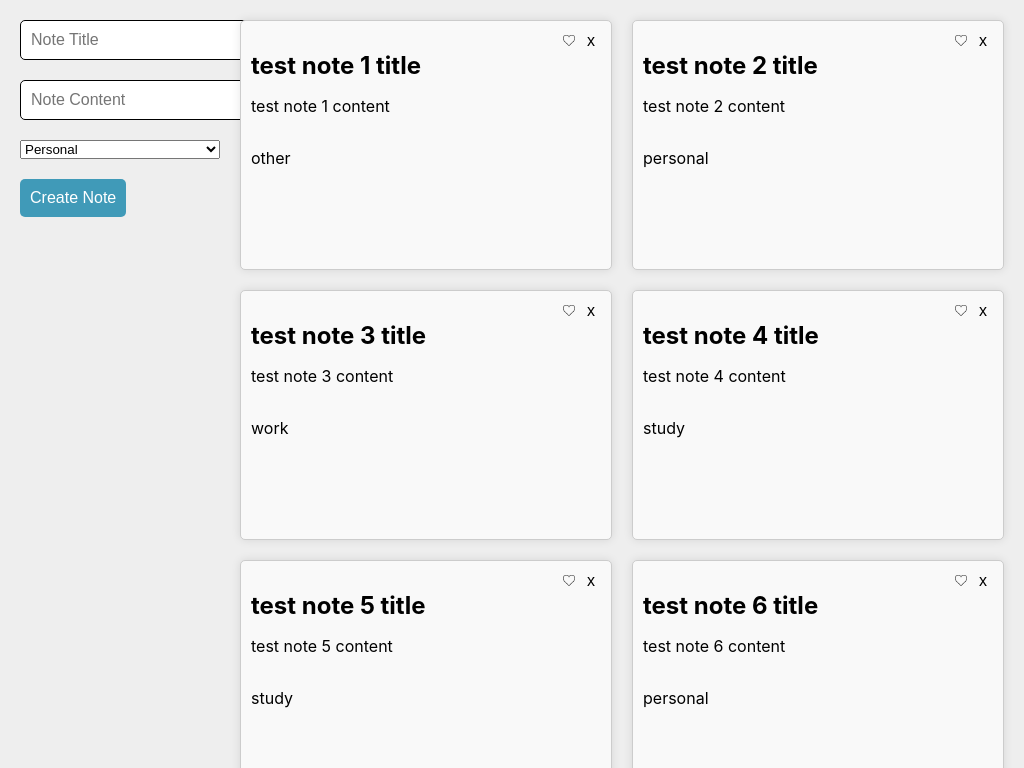
it: Delete StickyNote › removes a note when the delete button is clicked
This screenshot has width=1024, height=768.
expect the heading "test note 1 title" is shown: met, box [251, 51, 421, 80]
expect the text box "test note 1 content" is shown: met, box [251, 96, 390, 116]
Click the 1st button "x". click: x=591, y=41
box: [581, 31, 601, 51]
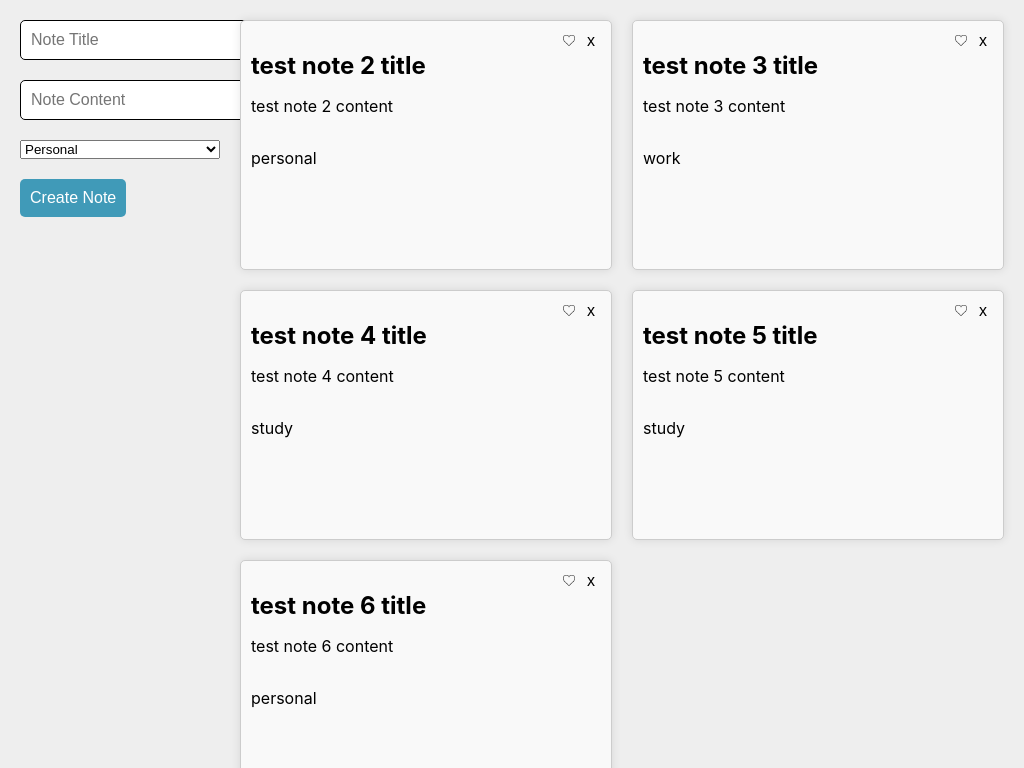
expect the heading "test note 2 title" is shown: met, box [251, 51, 426, 80]
expect the heading "test note 1 title" is gone: met
expect the text box "test note 1 content" is gone: met
Click the 1st button "x". click: x=591, y=41
box: [581, 31, 601, 51]
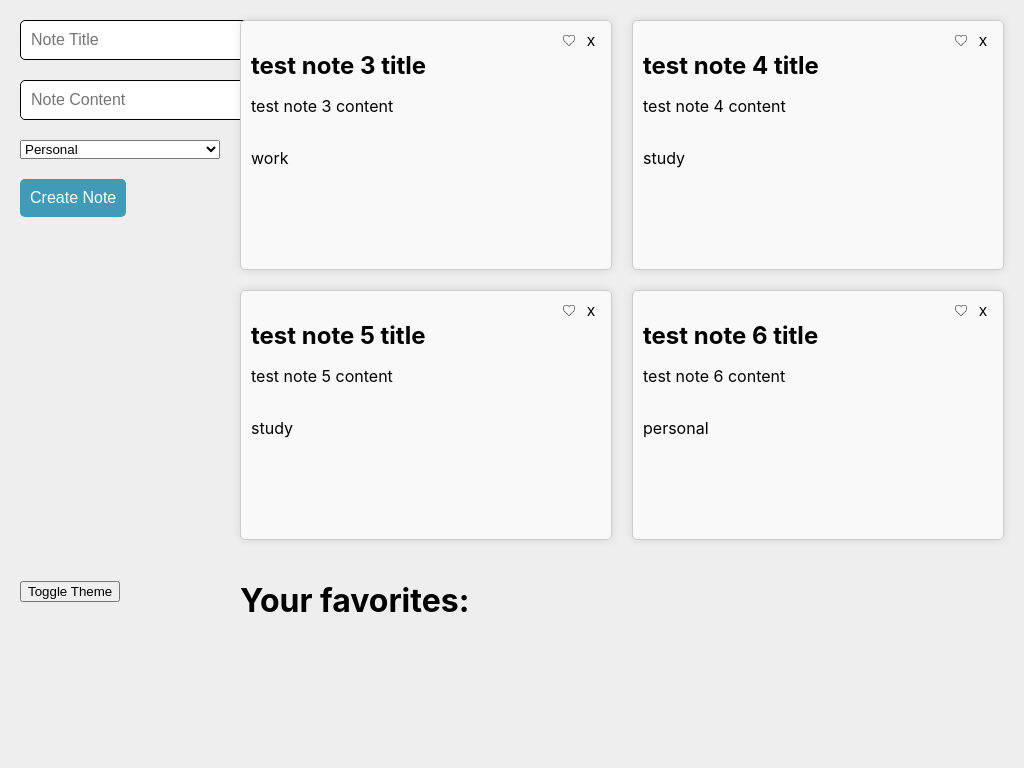
expect the heading "test note 3 title" is shown: met, box [251, 51, 426, 80]
expect the heading "test note 2 title" is gone: met
expect the text box "test note 2 content" is gone: met
Click the 1st button "x". click: x=591, y=41
box: [581, 31, 601, 51]
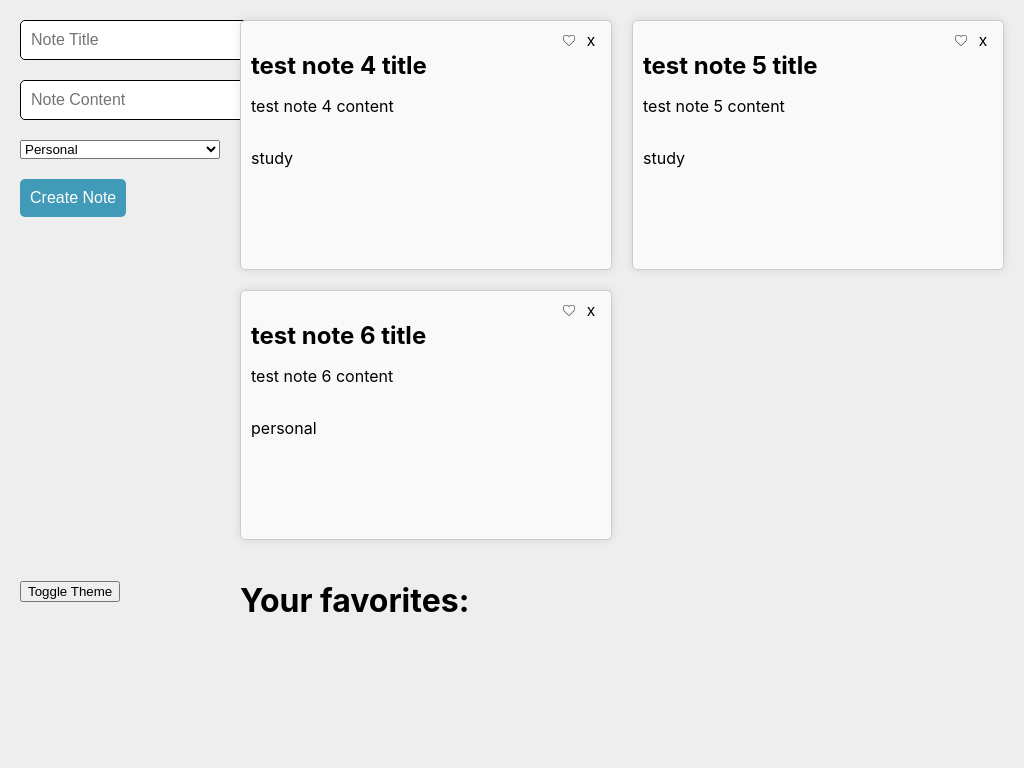
expect the heading "test note 4 title" is shown: met, box [251, 51, 427, 80]
expect the heading "test note 3 title" is gone: met
expect the text box "test note 3 content" is gone: met
Click the 1st button "x". click: x=591, y=41
box: [581, 31, 601, 51]
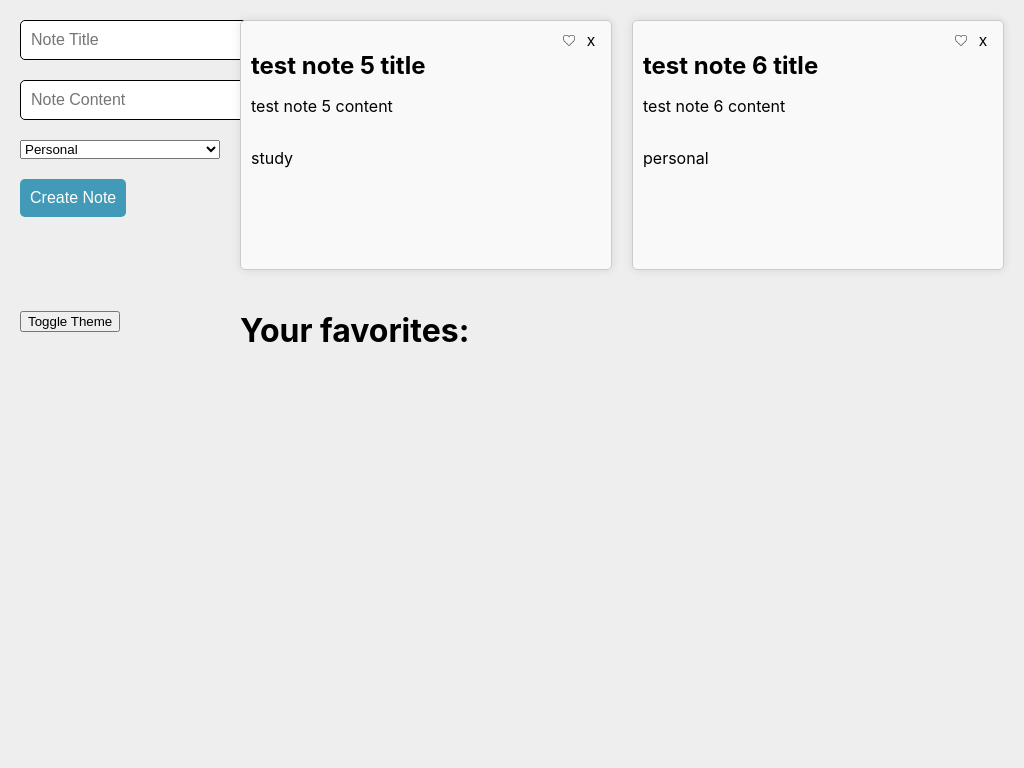
expect the heading "test note 5 title" is shown: met, box [251, 51, 426, 80]
expect the heading "test note 4 title" is gone: met
expect the text box "test note 4 content" is gone: met
Click the 1st button "x". click: x=591, y=41
box: [581, 31, 601, 51]
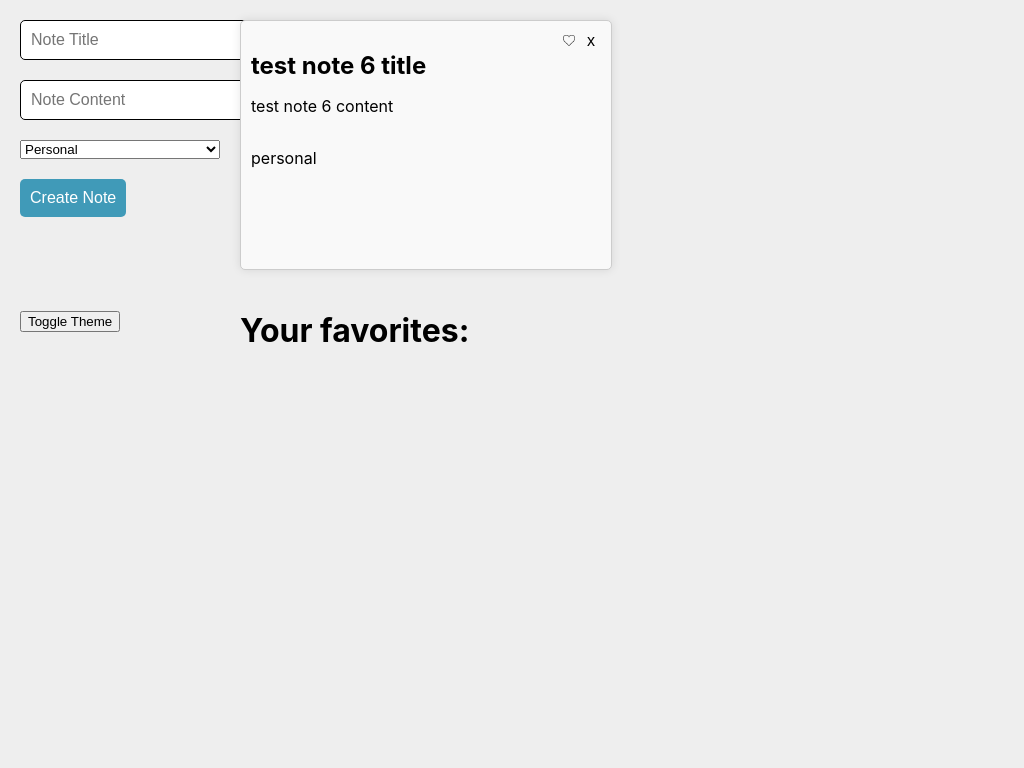
expect the heading "test note 6 title" is shown: met, box [251, 51, 426, 80]
expect the heading "test note 5 title" is gone: met
expect the text box "test note 5 content" is gone: met
Click the button "x". click: x=591, y=41
box: [581, 31, 601, 51]
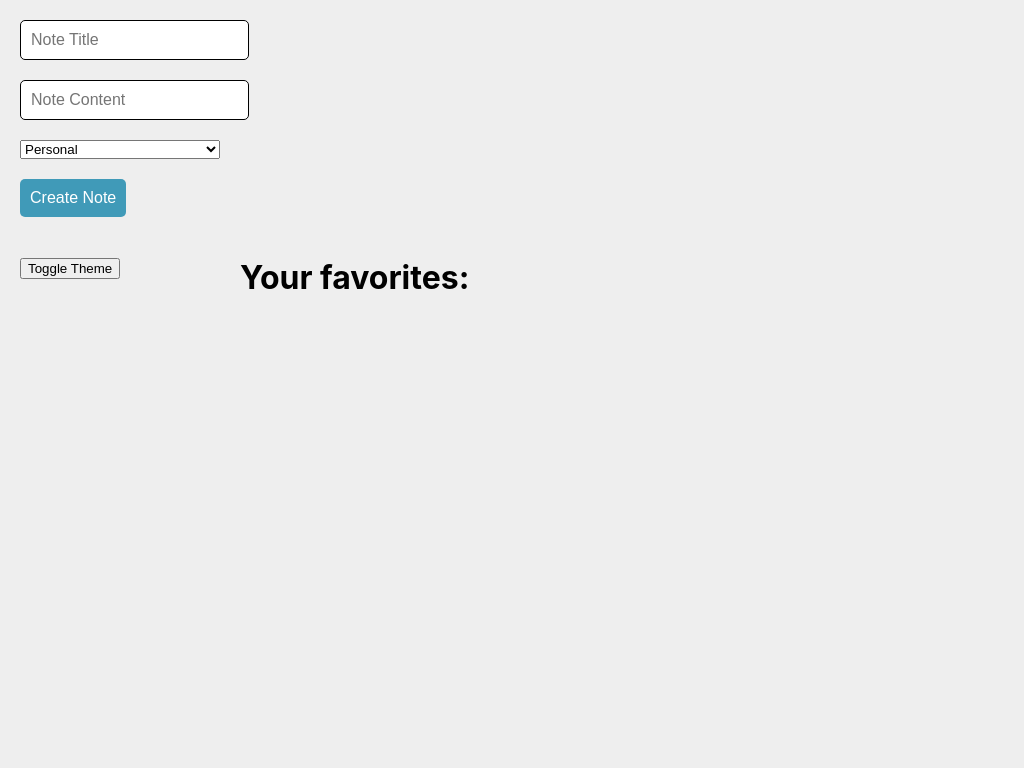
expect the heading "test note 6 title" is gone: met
expect the text box "test note 6 content" is gone: met
